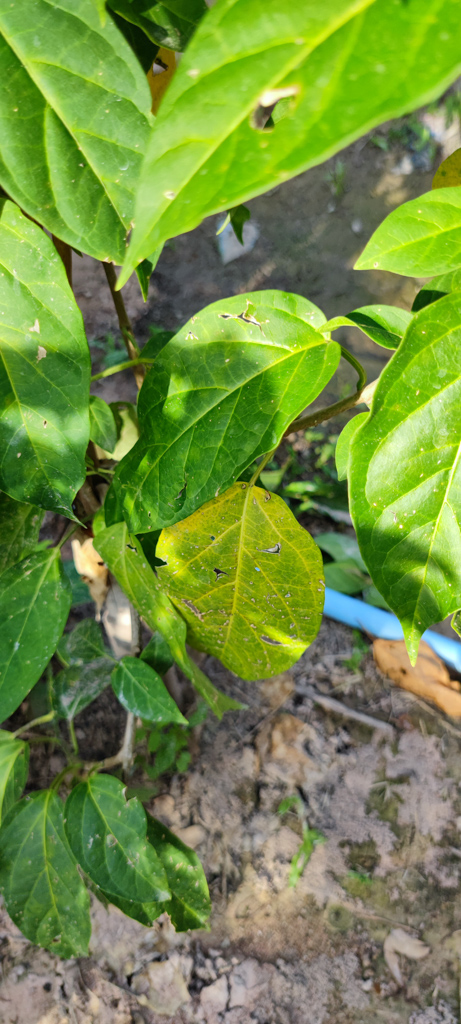Pepper yellow leaf: (152, 473, 338, 692)
